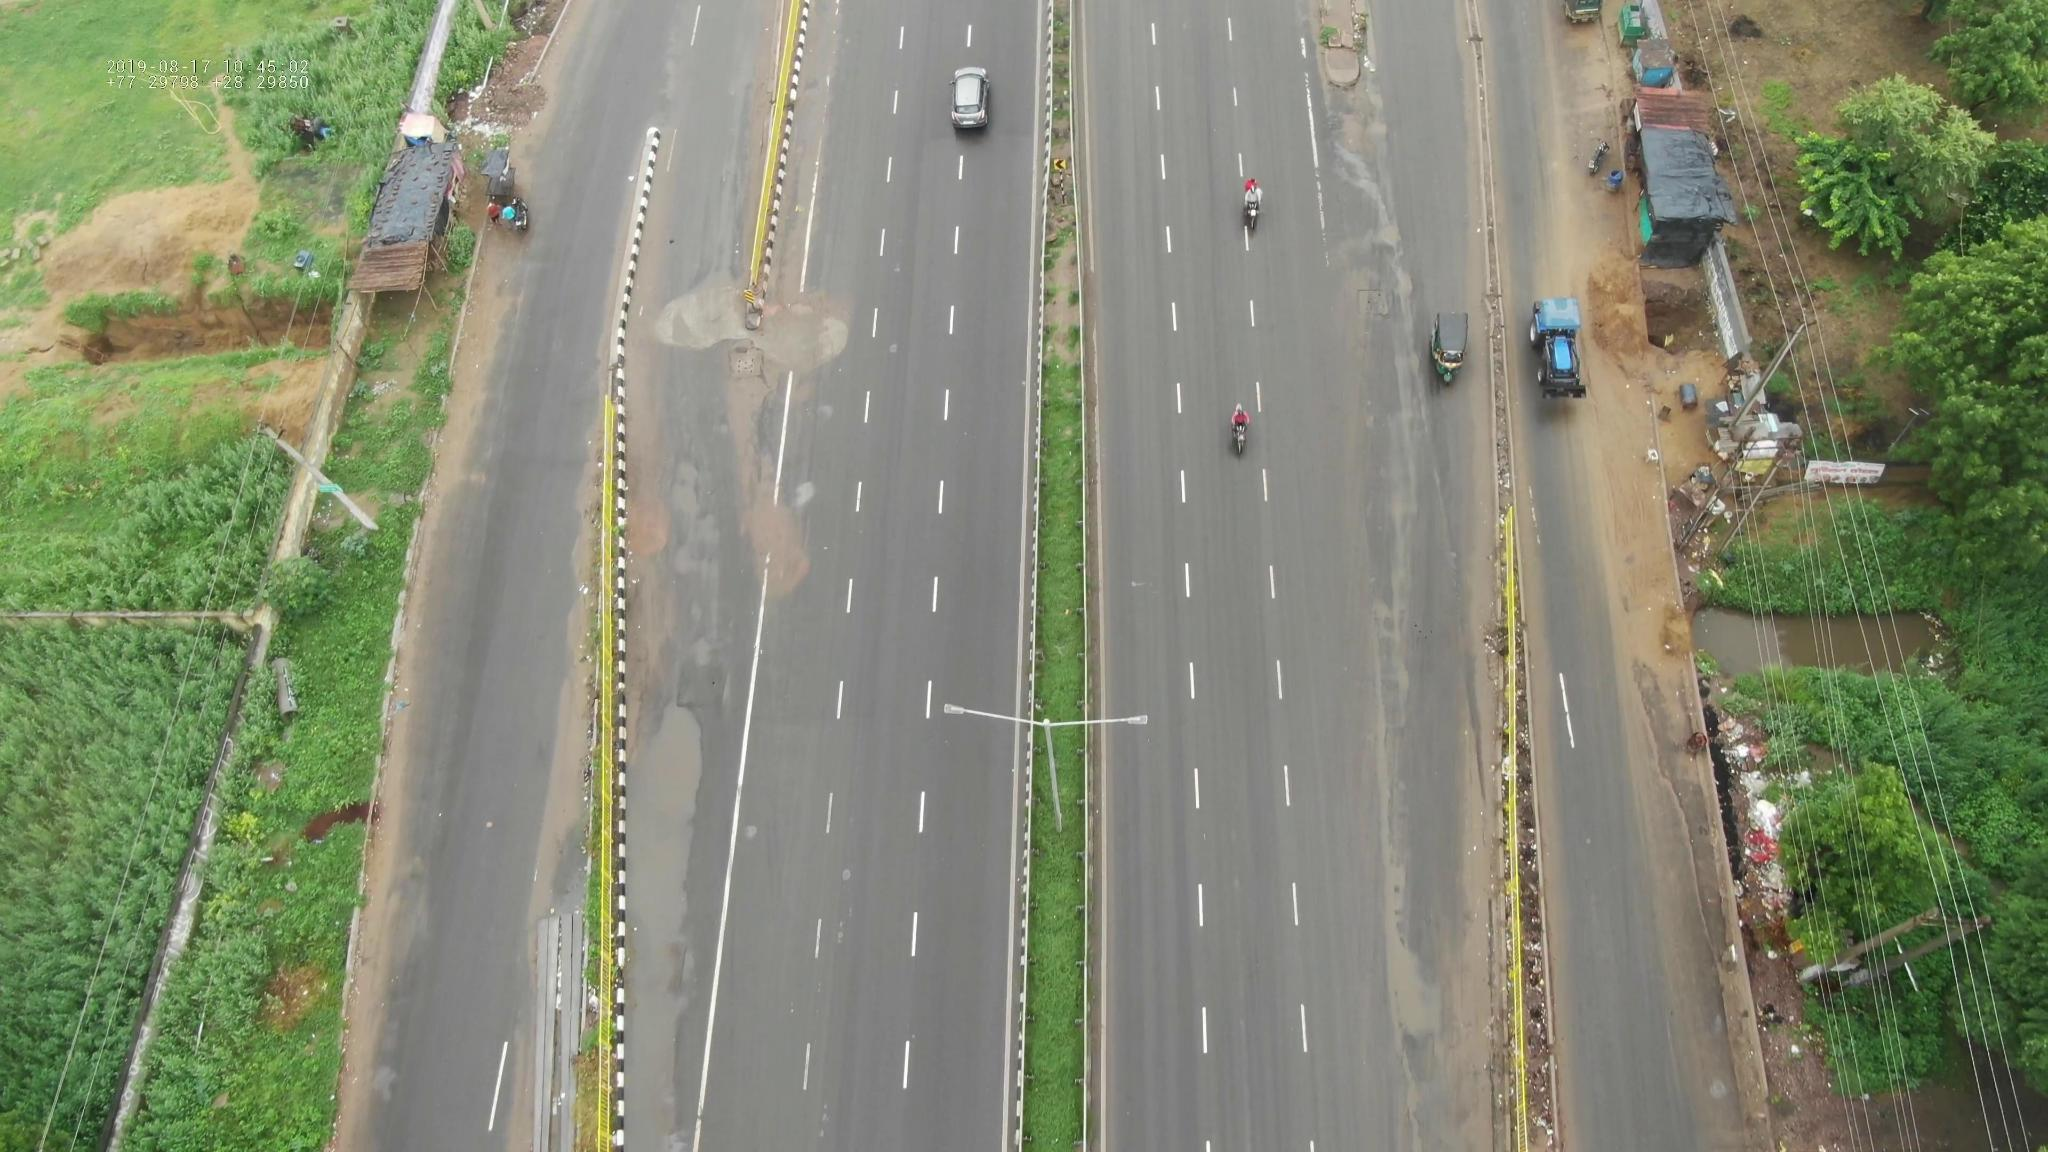Muddy_road: (1581, 264, 1671, 610)
Potholes: (668, 283, 840, 592)
Road_side_garbage: (1703, 700, 1812, 919)
Waterlogging: (617, 737, 703, 1110)
